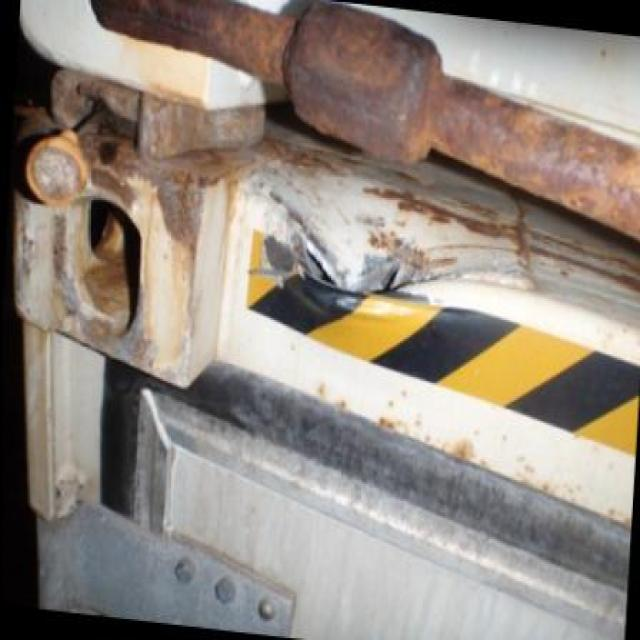hole: (254, 187, 454, 339)
